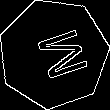M_W: (22, 24, 85, 84)
